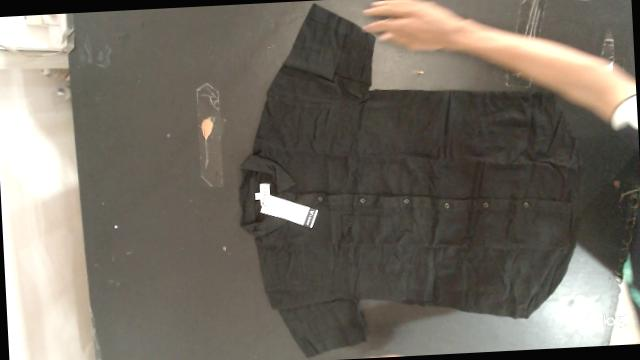new-garment: (239, 4, 579, 356)
